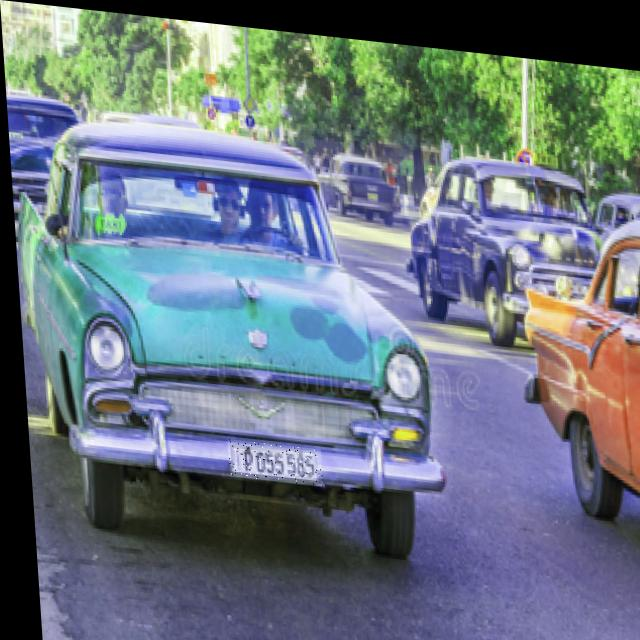license_plate: (222, 434, 317, 480)
